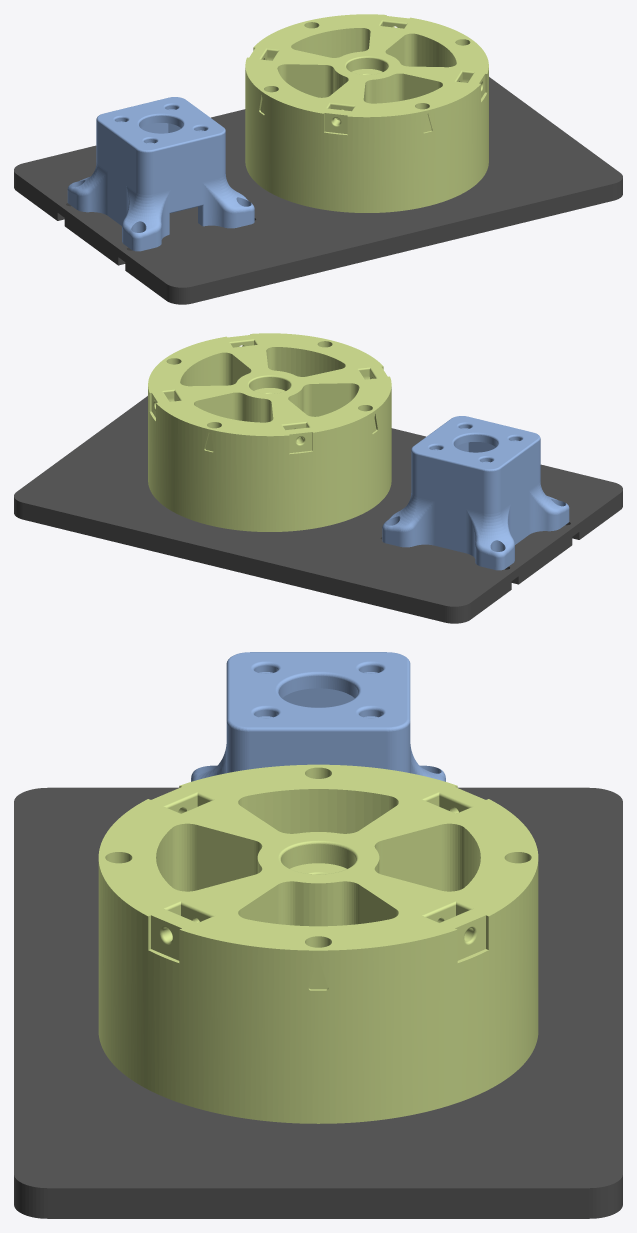
3 views of the same model, one above another, from view 1: azimuth 30°, elevation 25°; view 2: azimuth 150°, elevation 25°; view 3: azimuth 270°, elevation 25° (orthographic). The views are drawn at different scales.
Parts seen in each view (by area): view 1: Untitled_001, Untitled, Untitled_002; view 2: Untitled_001, Untitled, Untitled_002; view 3: Untitled_001, Untitled, Untitled_002.
Part boxes in pixels (box(x1,y1,x2,y2)): Untitled_001: box(245, 14, 488, 212); Untitled: box(14, 77, 622, 304); Untitled_002: box(67, 97, 254, 251); Untitled_001: box(148, 333, 391, 531); Untitled: box(14, 396, 622, 623); Untitled_002: box(382, 416, 569, 570); Untitled_001: box(98, 764, 538, 1123); Untitled: box(14, 787, 622, 1218); Untitled_002: box(191, 652, 445, 781).
Bounding box in the file's own units: 0.28 × 0.18 × 0.0665.
